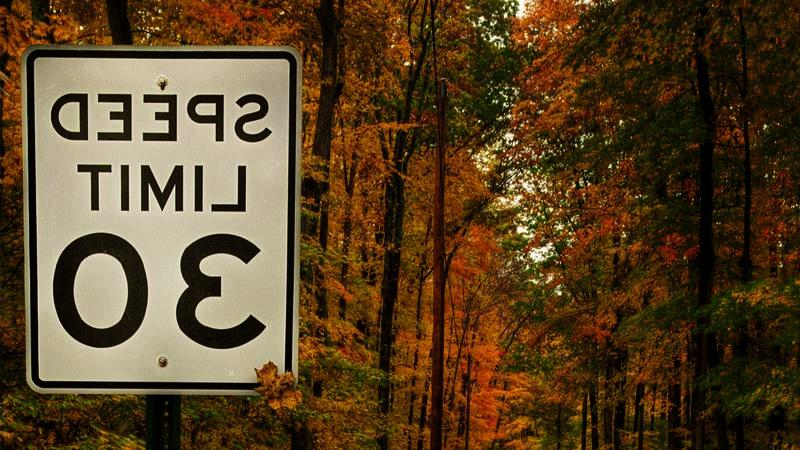speed limit sign: (23, 45, 297, 393)
